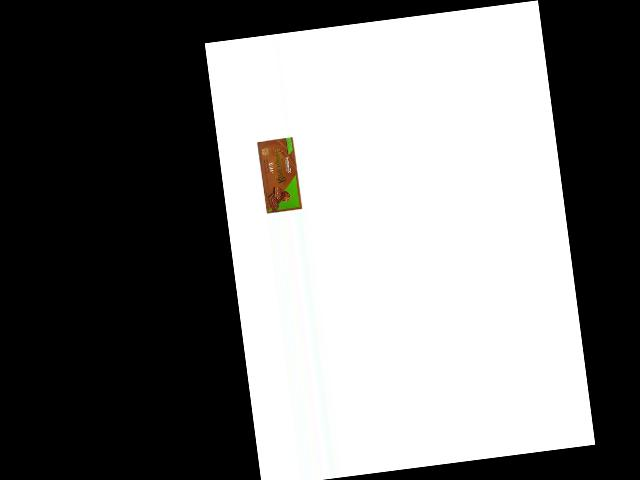chocolate: (253, 134, 303, 215)
